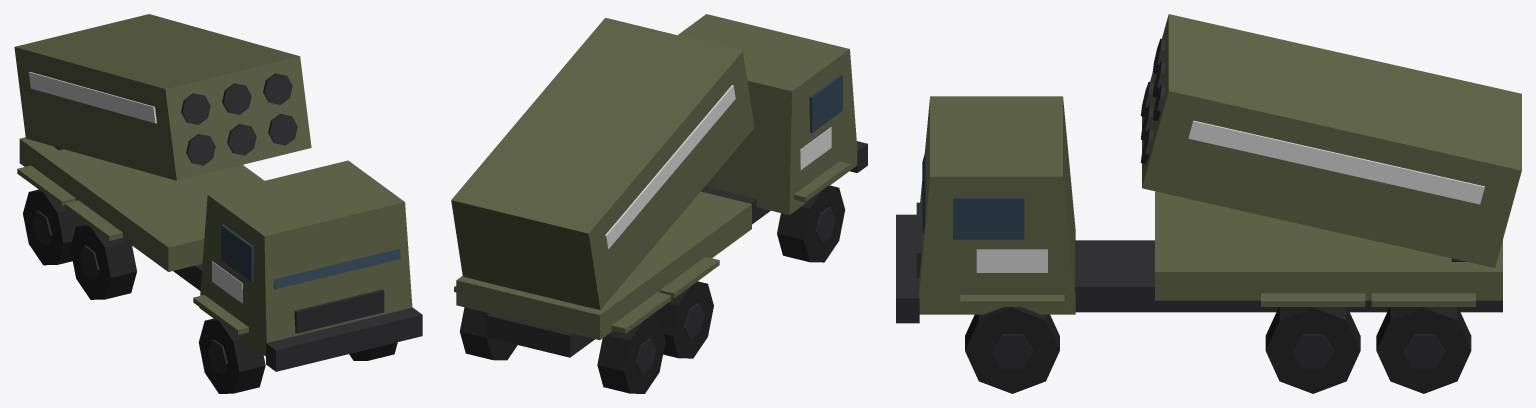
The model's file is himars.glb.
The picture shows the model from 3 angles, left to right: view 1: azimuth 30°, elevation 25°; view 2: azimuth 150°, elevation 25°; view 3: azimuth 270°, elevation 25°; orthographic projection. The views are drawn at different scales.
Parts seen in each view (by area): view 1: Body; view 2: Body; view 3: Body.
Part boxes in pixels (x1,y1,x2,y2): Body: (14,14,422,393); Body: (451,14,867,393); Body: (896,14,1521,393).
Bounding box in the file's own units: 2.87 × 4.12 × 7.91.
